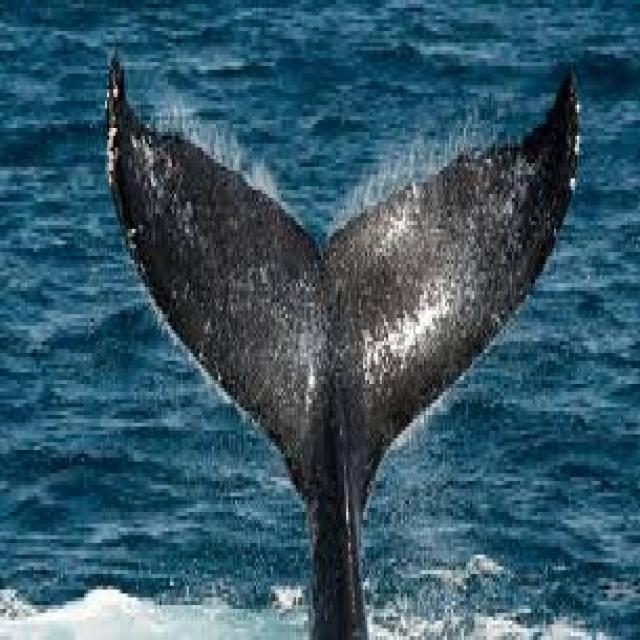whale: (107, 54, 577, 636)
